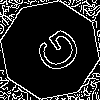G: (25, 25, 85, 83)
